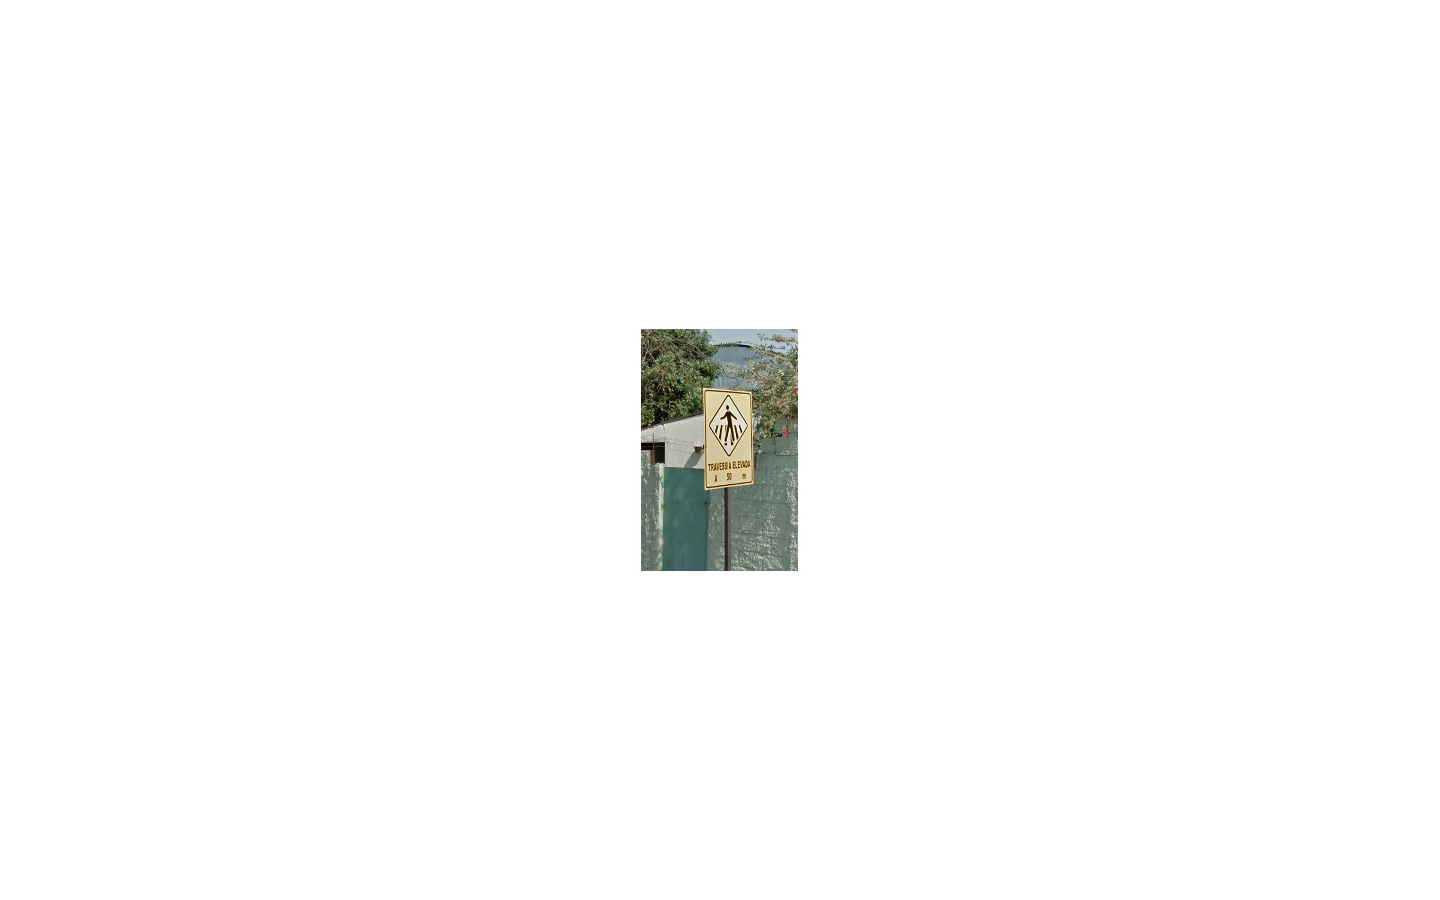t50m: (702, 388, 753, 490)
